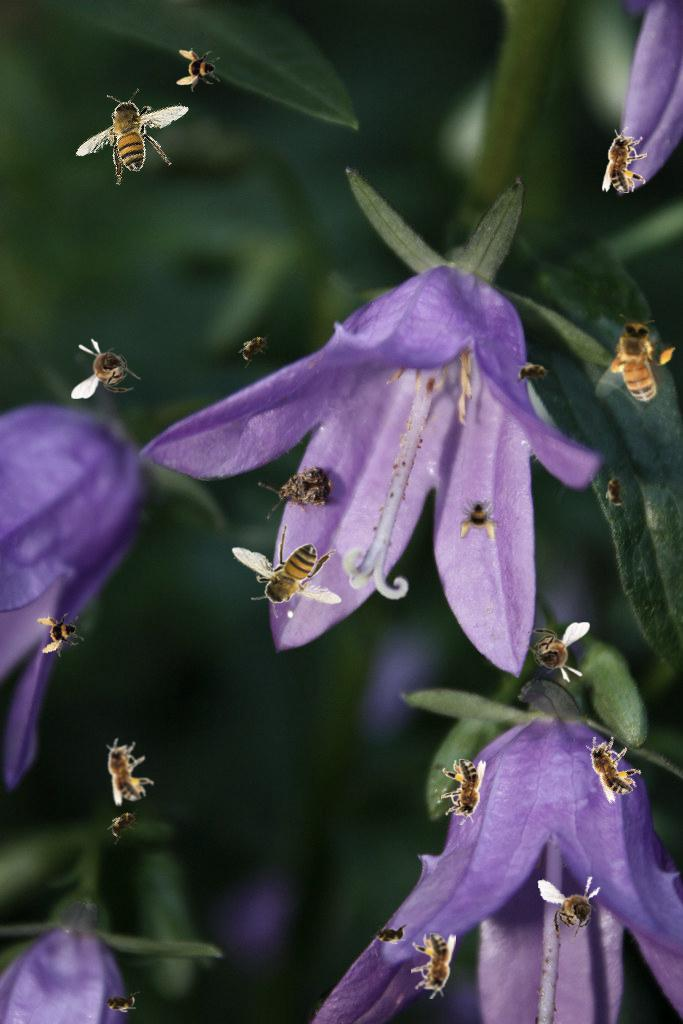Bee: (63, 61, 208, 207), (588, 307, 683, 420), (231, 524, 342, 618), (536, 867, 613, 949), (573, 725, 649, 806), (93, 730, 159, 809), (71, 338, 141, 399), (520, 622, 590, 683), (411, 933, 456, 999), (441, 759, 486, 825), (602, 127, 647, 193), (33, 607, 87, 661), (101, 802, 147, 846), (458, 497, 502, 541), (176, 48, 220, 92), (232, 327, 278, 369), (100, 991, 140, 1013), (605, 471, 627, 511), (370, 923, 410, 945), (513, 362, 553, 384)
